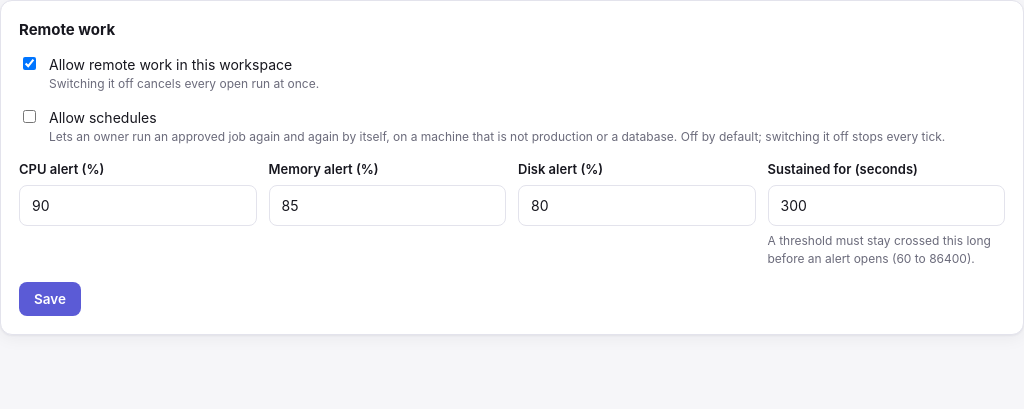
Test case: the remote work settings card › shows the schedules switch only when the API has it, off by default, and sends it when an admin turns it on
Expected: the number field labelled "CPU alert (%)" is shown, [19, 185, 256, 226]
Expected: the text "Lets an owner run an approved job again and again by itself, on a machine that is not production or a database. Off by d" is shown, [49, 128, 945, 144]
Click the 2nd switch at (30, 116), box [23, 110, 36, 122]
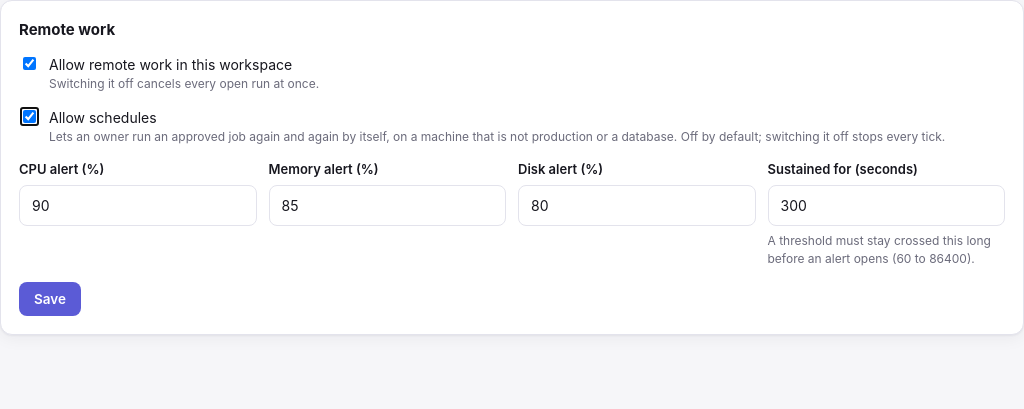
Click the button "Save" at (50, 299), box [19, 282, 81, 316]
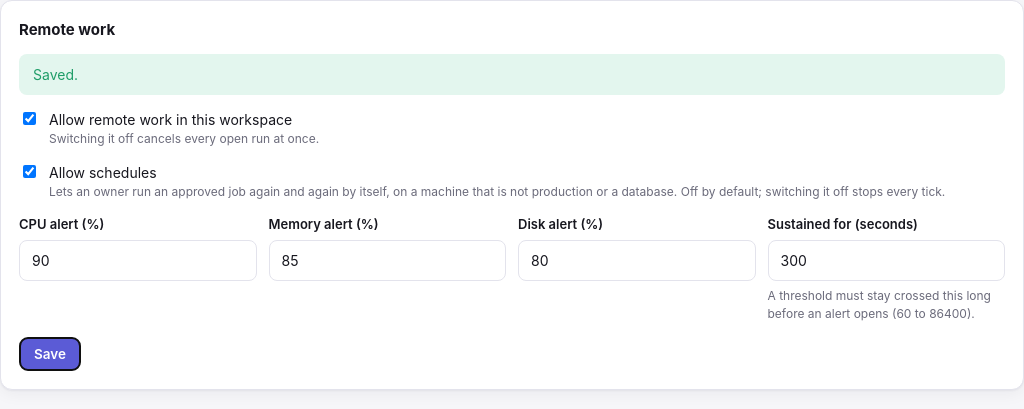
Now the text "Saved." is shown, box [19, 54, 1005, 94]
